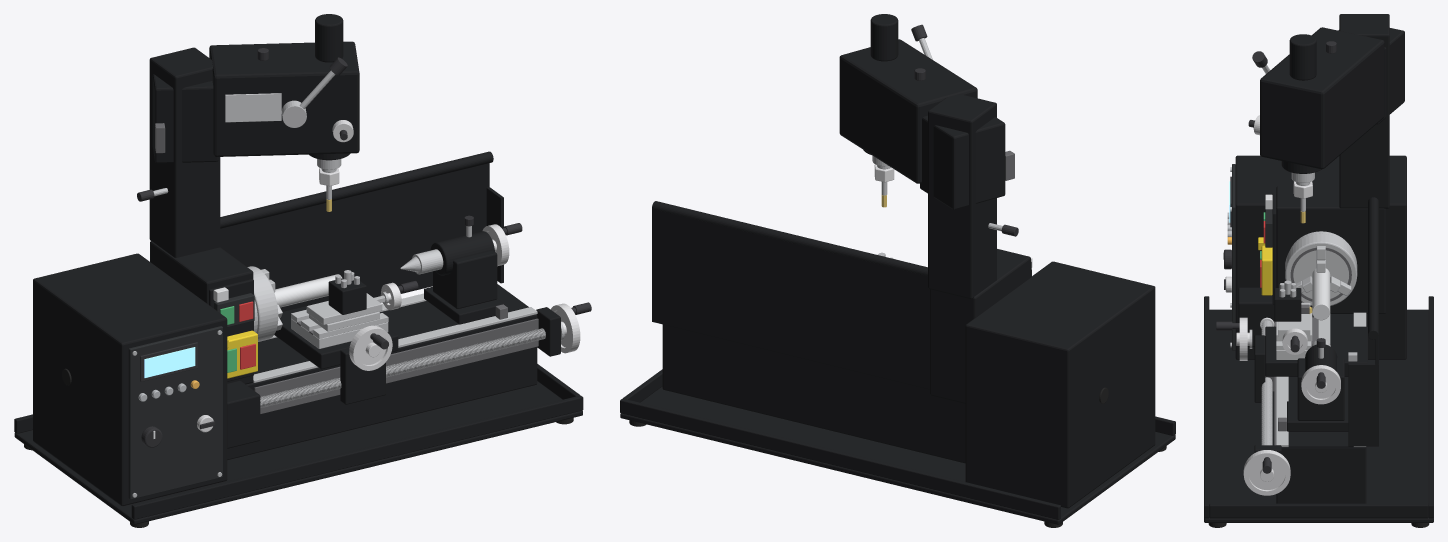
3 renders of one model, left to right at view 1: azimuth 30°, elevation 25°; view 2: azimuth 150°, elevation 25°; view 3: azimuth 270°, elevation 25°, orthographic. The views are drawn at different scales.
Parts seen in each view (by area): view 1: Cabinet, Guard_Back, Head_Box, Panel, Bed, Tray_Base, Column, Tray_LipF, Bed_Rack, Head_Sleeve, Guard_Roll, Bed_Mid (+22 smaller); view 2: Cabinet, Guard_Back, Bed, Head_Box, Tray_Base, Column, Tray_LipB, Headstock, Head_Sleeve, Guard_Roll, Head_TopCap; view 3: Tray_Base, Head_Box, Cabinet, Headstock, Column, Bed, Tray_LipR, Chuck_Body, Guard_Right, Saddle, Bed_Mid, Guard_Roll (+27 smaller).
Part boxes in pixels (x1,y1,x2,y2): Cabinet: [33, 253, 227, 506]; Guard_Back: [220, 163, 489, 311]; Head_Box: [209, 41, 359, 156]; Panel: [128, 326, 222, 499]; Bed: [227, 314, 537, 459]; Tray_Base: [14, 381, 582, 524]; Column: [149, 47, 220, 257]; Tray_LipF: [131, 395, 583, 519]; Bed_Rack: [254, 318, 538, 413]; Head_Sleeve: [152, 74, 218, 163]; Guard_Roll: [220, 151, 493, 228]; Bed_Mid: [254, 284, 528, 374]; Cabinet: [965, 261, 1155, 508]; Guard_Back: [652, 209, 929, 389]; Bed: [662, 324, 965, 463]; Head_Box: [839, 39, 977, 183]; Tray_Base: [620, 386, 1175, 524]; Column: [928, 94, 996, 298]; Tray_LipB: [620, 398, 1060, 519]; Headstock: [930, 249, 1030, 403]; Head_Sleeve: [920, 115, 1005, 209]; Guard_Roll: [652, 201, 927, 275]; Head_TopCap: [870, 14, 898, 61]; Tray_Base: [1204, 309, 1433, 522]; Head_Box: [1260, 27, 1384, 169]; Cabinet: [1235, 155, 1406, 359]; Headstock: [1276, 186, 1385, 313]; Column: [1339, 14, 1389, 208]; Bed: [1276, 447, 1366, 503]; Tray_LipR: [1209, 503, 1428, 518]; Chuck_Body: [1285, 233, 1357, 305]; Guard_Right: [1348, 363, 1378, 446]; Saddle: [1265, 326, 1367, 376]; Bed_Mid: [1288, 314, 1353, 447]; Guard_Roll: [1368, 197, 1378, 339].
Bounding box in the file's own units: 0.5975 × 0.485 × 0.255.
